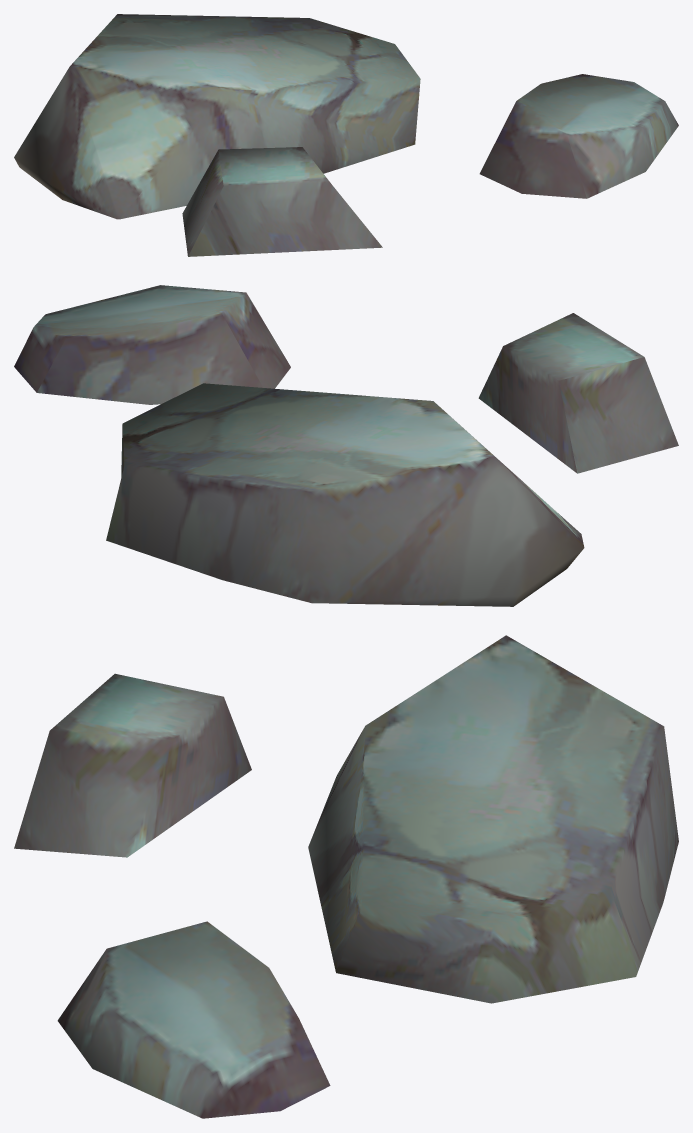
File: Map_Choose_stone01.FBX
The picture shows the model from 3 angles, top to bottom: view 1: azimuth 30°, elevation 25°; view 2: azimuth 150°, elevation 25°; view 3: azimuth 270°, elevation 25°; orthographic projection. The views are drawn at different scales.
Visible parts, largest first — view 1: Map_Choose_stone01; view 2: Map_Choose_stone01; view 3: Map_Choose_stone01.
Boxes of the visible parts, x1,y1,x2,y2 form: Map_Choose_stone01: [14, 14, 678, 256]; Map_Choose_stone01: [14, 285, 678, 606]; Map_Choose_stone01: [14, 635, 678, 1118].
Bounding box in the file's own units: 48.19 × 8.9 × 36.26.
Materials: 1 (1 with a texture image).
